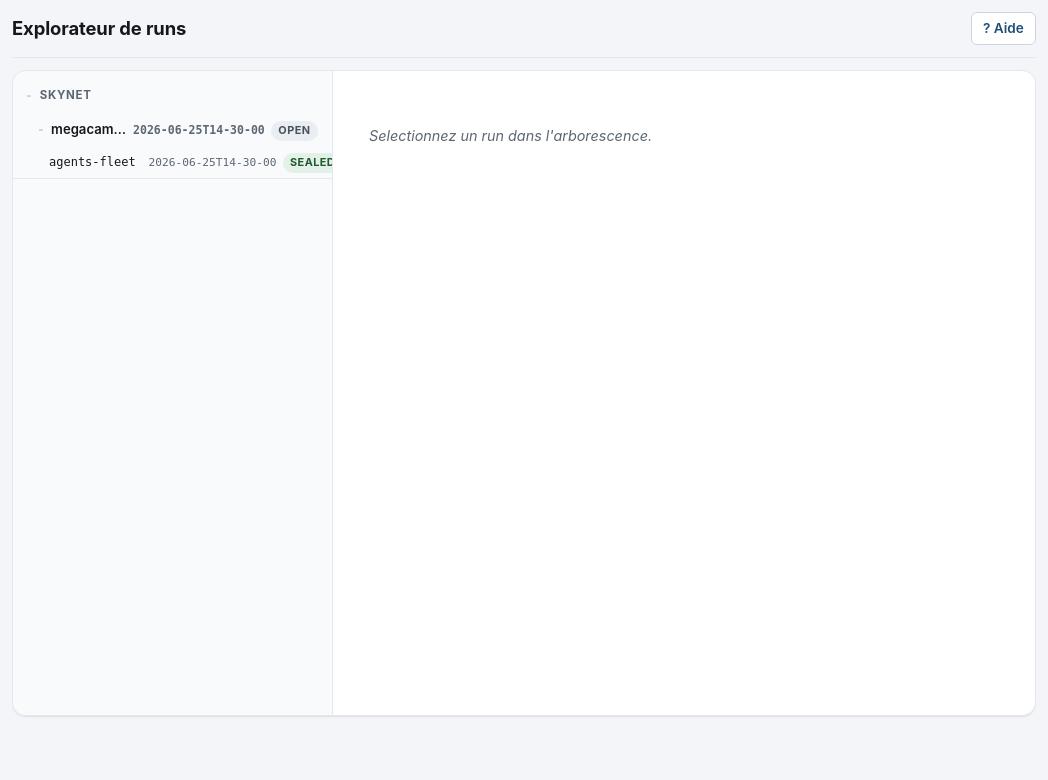
RunsExplorer › handles 422 from replayRun gracefully
Check: the list item with test id "run-category-skynet" is shown, box left=13, top=79, right=332, bottom=179
Click the button "agents-fleet 2026-06-25T14-30-00 sealed" at (172, 163), box left=13, top=147, right=332, bottom=178
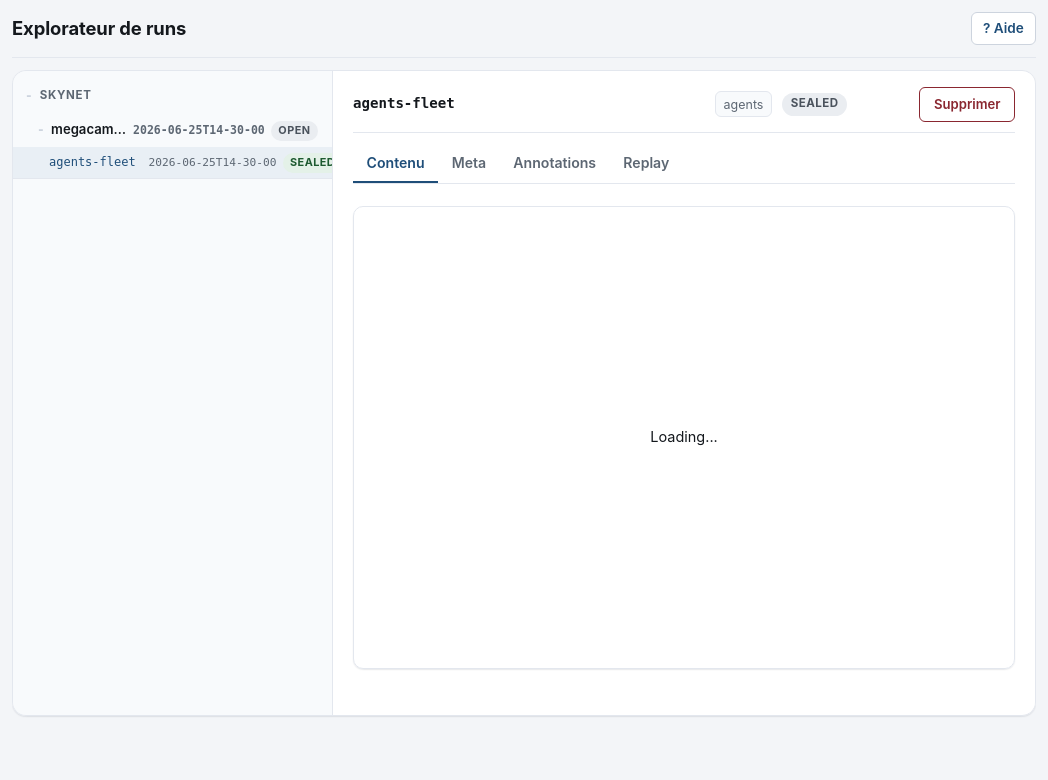
Click the tab with test id "runs-tab-replay" at (646, 164), box left=610, top=145, right=683, bottom=183
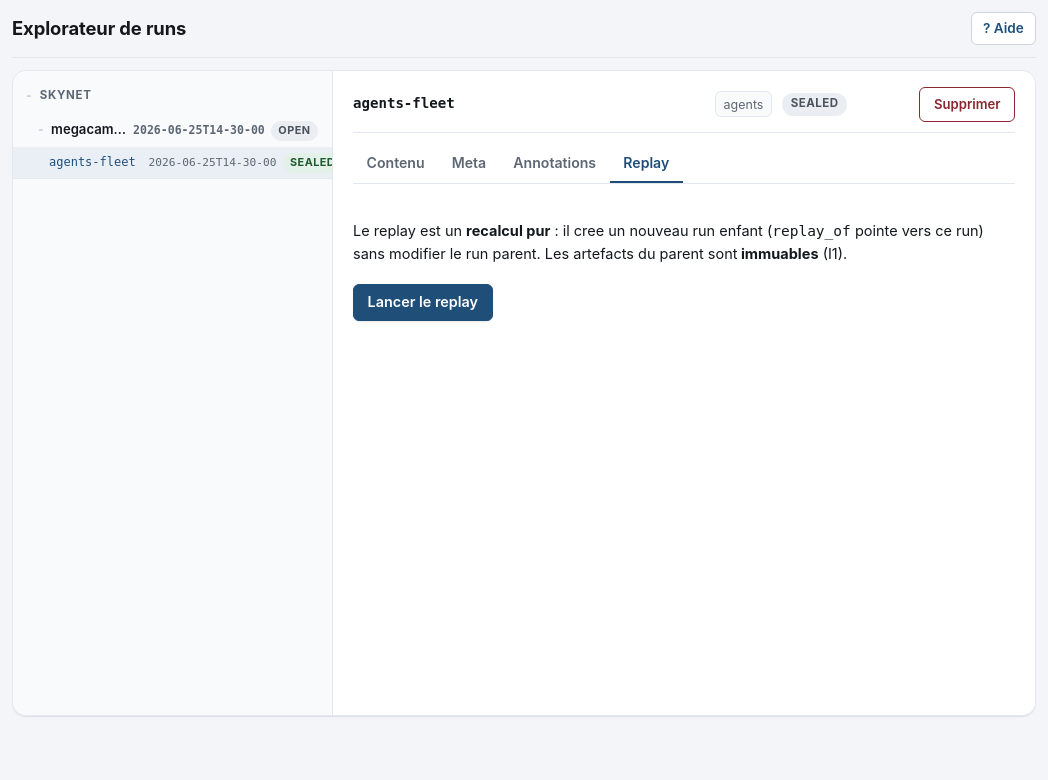
Click the button with test id "replay-btn" at (423, 302), box left=353, top=284, right=493, bottom=321
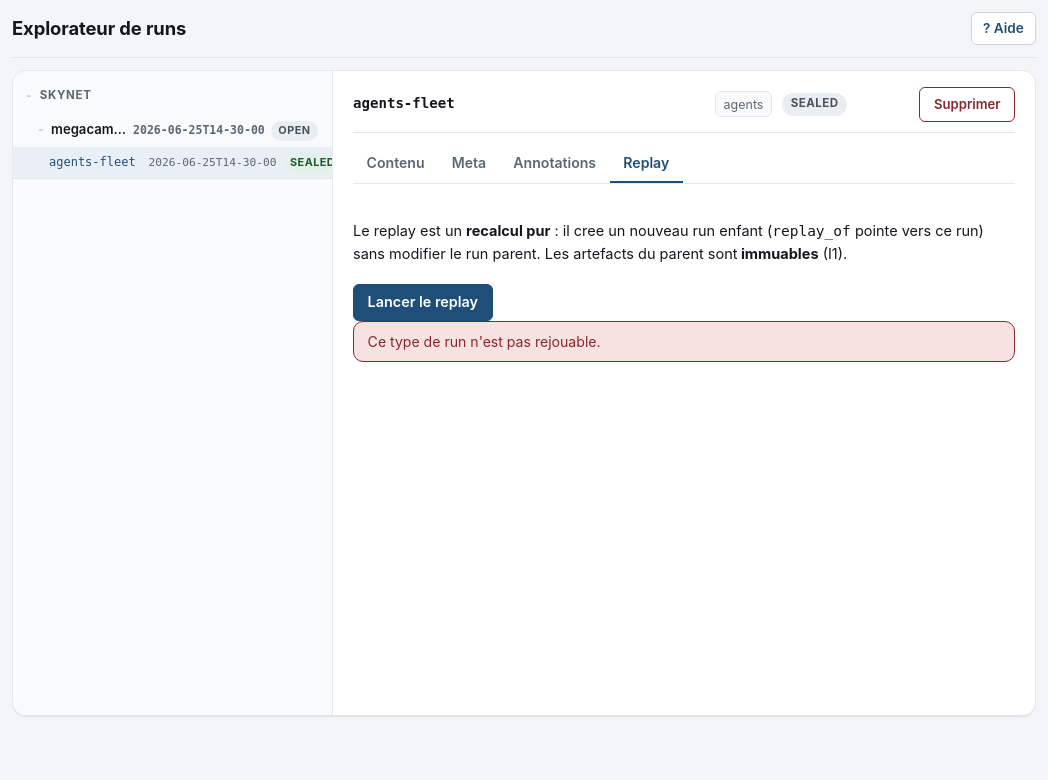
Check: the message with test id "replay-error" shows "n'est pas rejouable", box left=368, top=333, right=601, bottom=350
